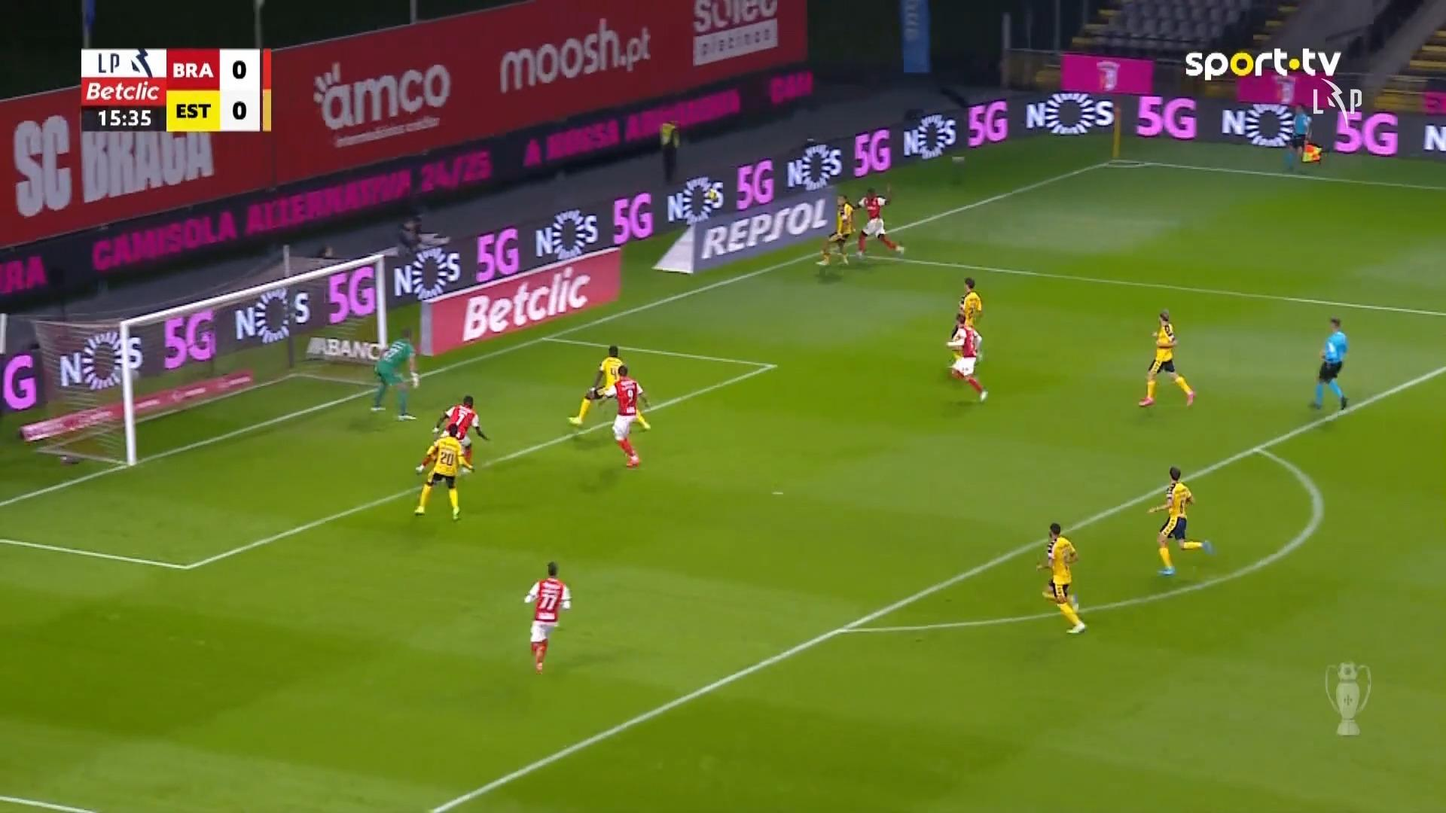ball: (708, 190, 718, 200)
goalkeeper: (369, 326, 420, 421)
player: (1147, 465, 1214, 576), (594, 364, 651, 467), (412, 426, 473, 522), (1035, 522, 1087, 634), (1137, 309, 1195, 407), (523, 560, 571, 673), (567, 344, 625, 426), (431, 394, 489, 473), (944, 312, 988, 402), (853, 184, 905, 259), (815, 193, 856, 267), (954, 276, 984, 356)
referee: (1308, 316, 1349, 410), (1283, 102, 1312, 172)
